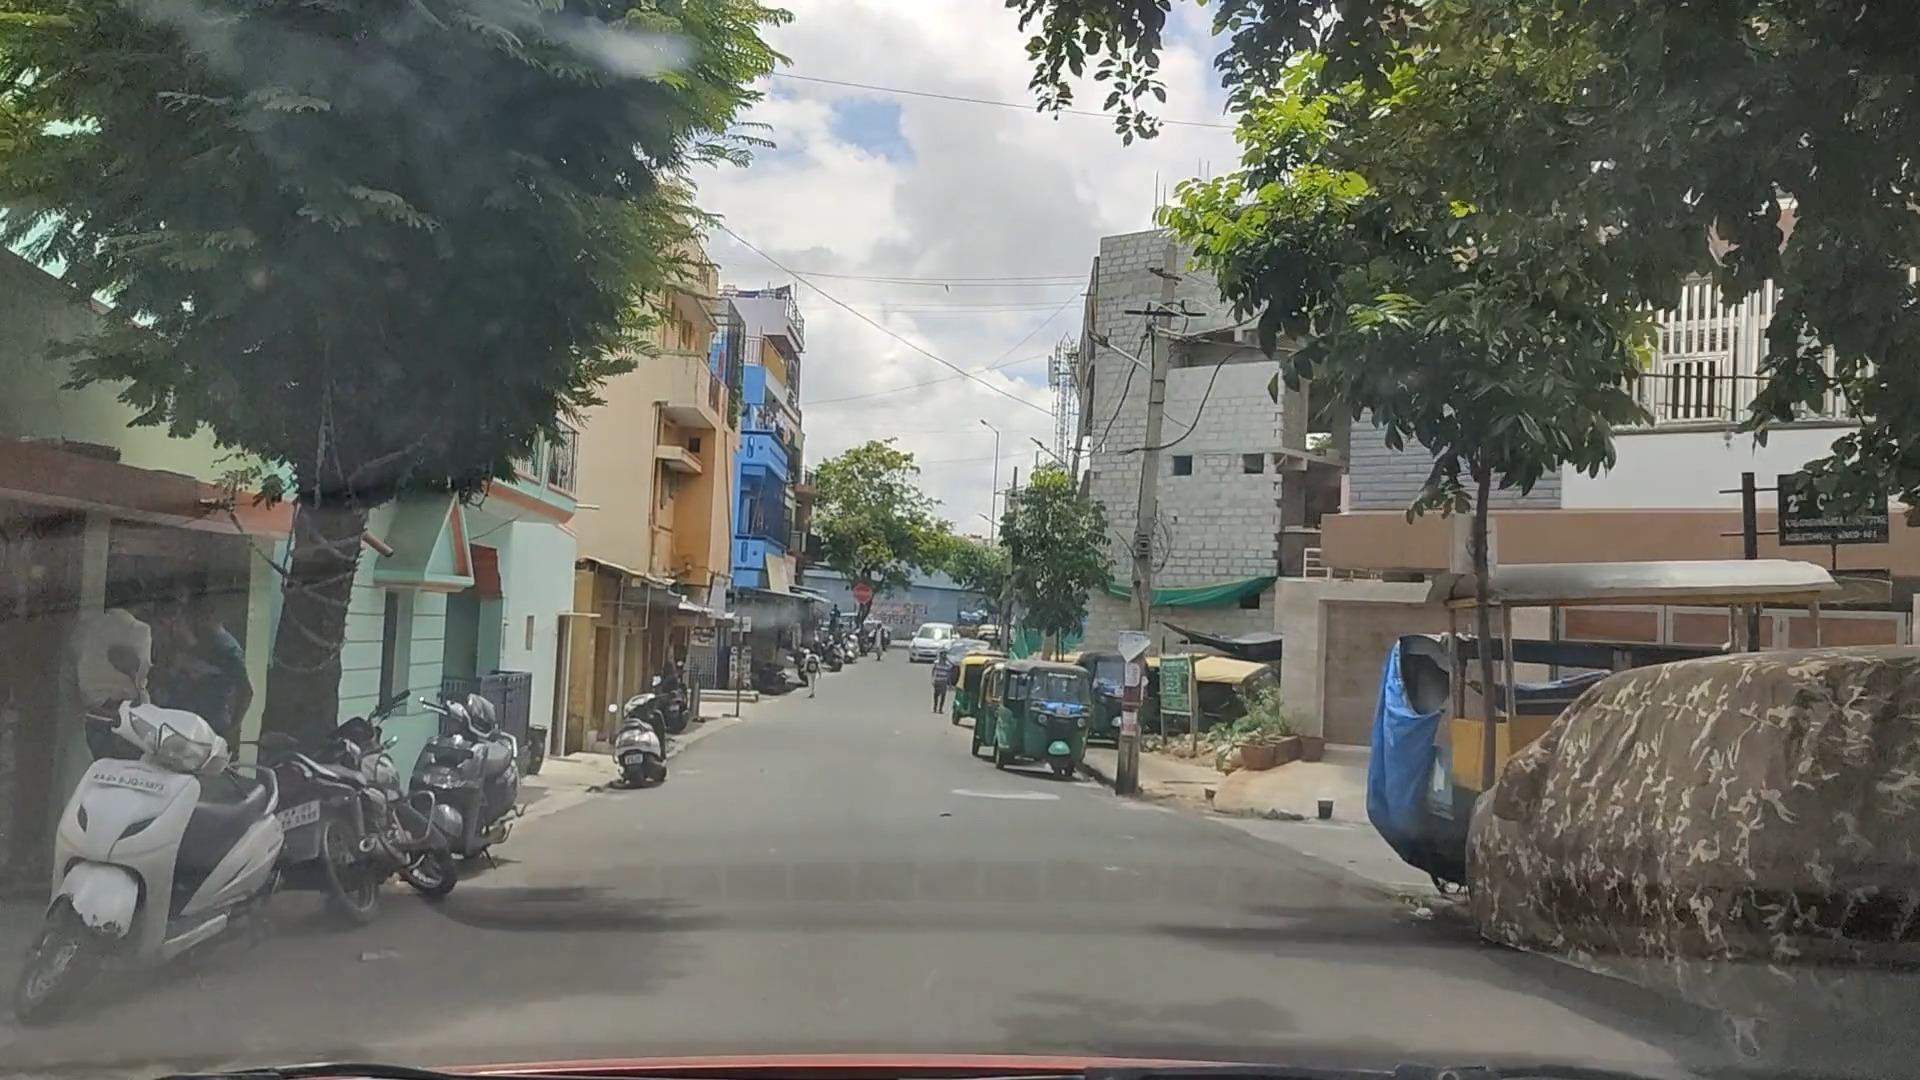LMV: (972, 657, 1093, 773)
